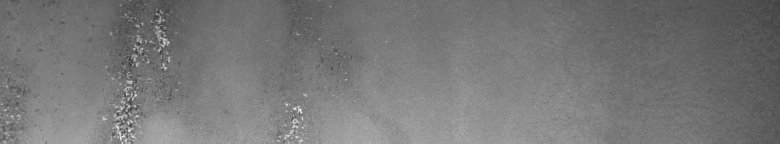hc: (4, 4, 182, 136)
